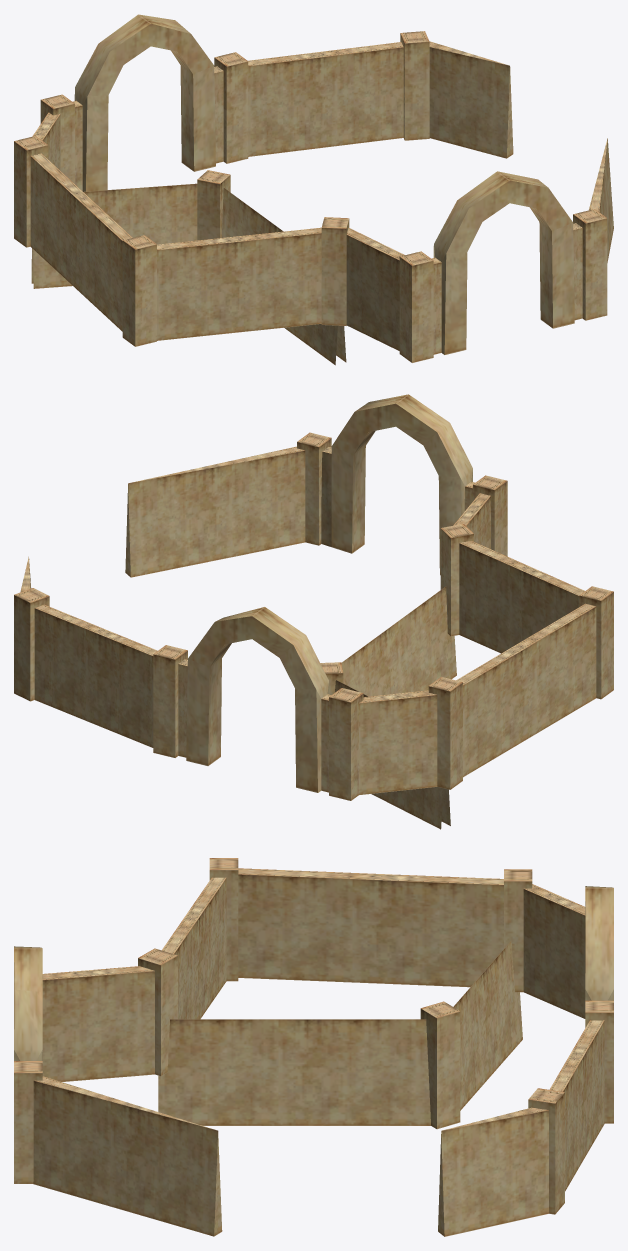
The model's file is poi_tato_farm_32x32_s02_l1.fbx.
The picture shows the model from 3 angles, top to bottom: view 1: azimuth 30°, elevation 25°; view 2: azimuth 150°, elevation 25°; view 3: azimuth 270°, elevation 25°; orthographic projection. The views are drawn at different scales.
Visible parts, largest first — view 1: mesh_node; view 2: mesh_node; view 3: mesh_node.
Part boxes in pixels (x1=…): mesh_node: x1=14, y1=14, x2=613, y2=365; mesh_node: x1=14, y1=394, x2=613, y2=829; mesh_node: x1=14, y1=858, x2=613, y2=1236.
Bounding box in the file's own units: 22.18 × 9 × 21.
